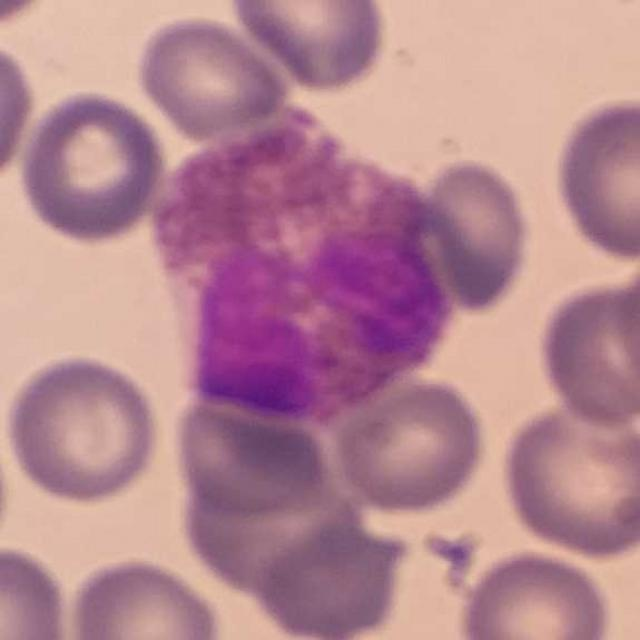Eosinophil: (148, 104, 457, 419)
Platelets: (428, 532, 478, 573)
RBC: (175, 444, 368, 602), (2, 348, 166, 508), (167, 376, 339, 523), (16, 86, 170, 247), (327, 370, 492, 518), (495, 395, 640, 562), (408, 154, 536, 316), (132, 11, 290, 141), (250, 517, 410, 640), (533, 272, 640, 430), (548, 91, 640, 264), (225, 0, 392, 95), (453, 546, 615, 640), (64, 552, 227, 640), (0, 540, 75, 640), (0, 32, 39, 189), (610, 242, 640, 408), (0, 0, 63, 33)
